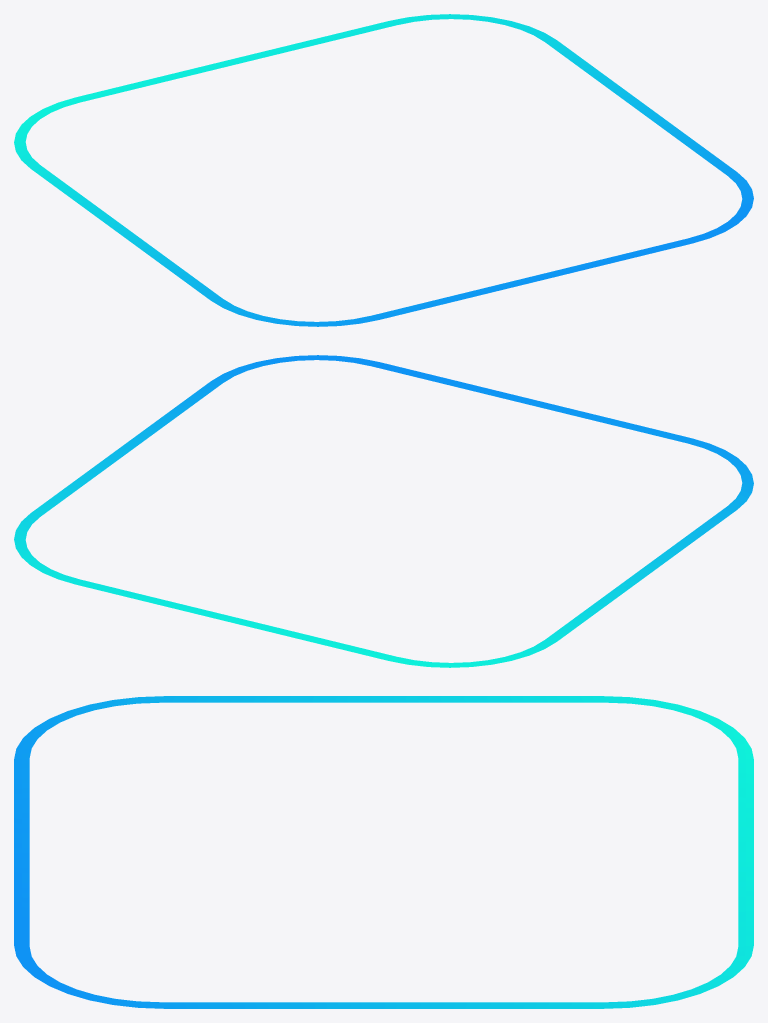
Rendered from areaHelper.glb.
3 views of the same model, one above another, from view 1: azimuth 30°, elevation 25°; view 2: azimuth 150°, elevation 25°; view 3: azimuth 270°, elevation 25° (orthographic). The views are drawn at different scales.
Visible parts, largest first — view 1: Plane; view 2: Plane; view 3: Plane.
Part boxes in pixels (x1,y1,x2,y2): Plane: (14,14,753,326); Plane: (14,355,753,667); Plane: (14,696,753,1008).
Bounding box in the file's own units: 1.14 × 0 × 1.14.
Materials: 1 (1 with a texture image).
